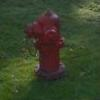Hydrant: (18, 5, 72, 82)
